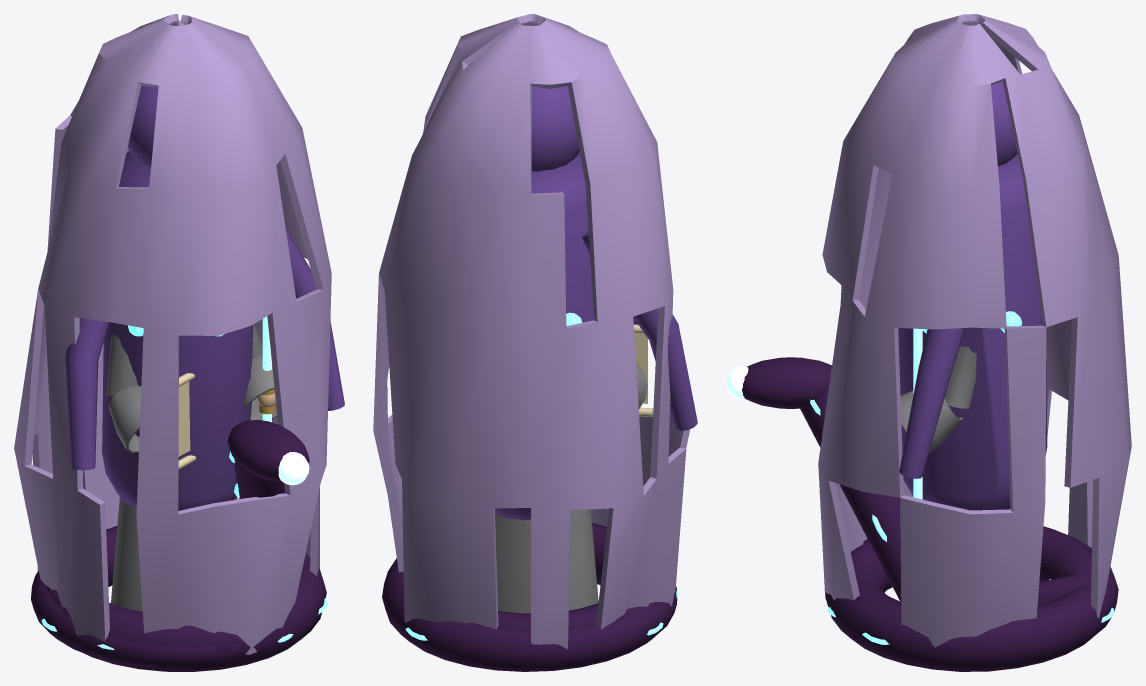
File: lindlar.glb
3 views of the same model, side by side, from view 1: azimuth 30°, elevation 25°; view 2: azimuth 150°, elevation 25°; view 3: azimuth 270°, elevation 25° (orthographic).
Parts seen in each view (by area): view 1: mim_shell, mim_body, vip_body, lin_body; view 2: mim_shell, vip_body, mim_body, lin_body; view 3: mim_shell, vip_body, mim_body, lin_body.
Part boxes in pixels (x1=…): mim_shell: x1=14, y1=14, x2=331, y2=654; mim_body: x1=65, y1=85, x2=344, y2=510; vip_body: x1=31, y1=420, x2=328, y2=671; lin_body: x1=106, y1=316, x2=277, y2=611; mim_shell: x1=373, y1=14, x2=689, y2=649; vip_body: x1=382, y1=318, x2=678, y2=671; mim_body: x1=495, y1=85, x2=697, y2=520; lin_body: x1=495, y1=324, x2=652, y2=613; mim_shell: x1=818, y1=14, x2=1131, y2=647; vip_body: x1=726, y1=357, x2=1118, y2=671; mim_body: x1=898, y1=81, x2=1047, y2=510; lin_body: x1=900, y1=328, x2=976, y2=499.
Bounding box in the file's own units: 1.32 × 2.79 × 1.69.
